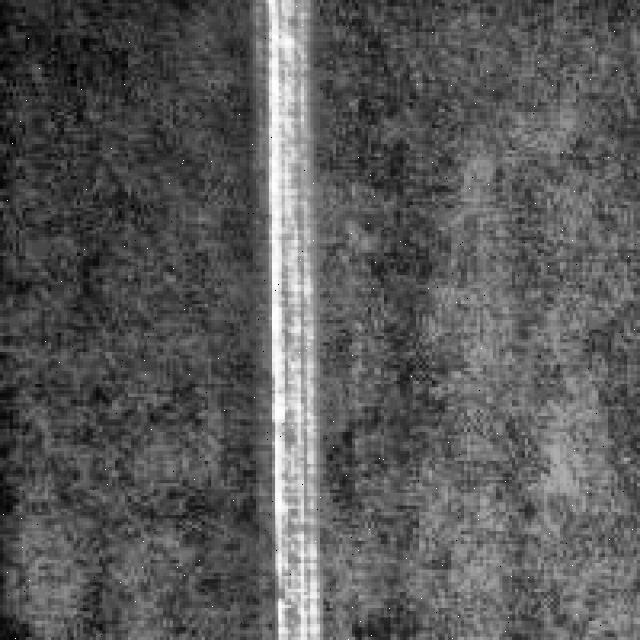Inclusion: (253, 0, 336, 634)
